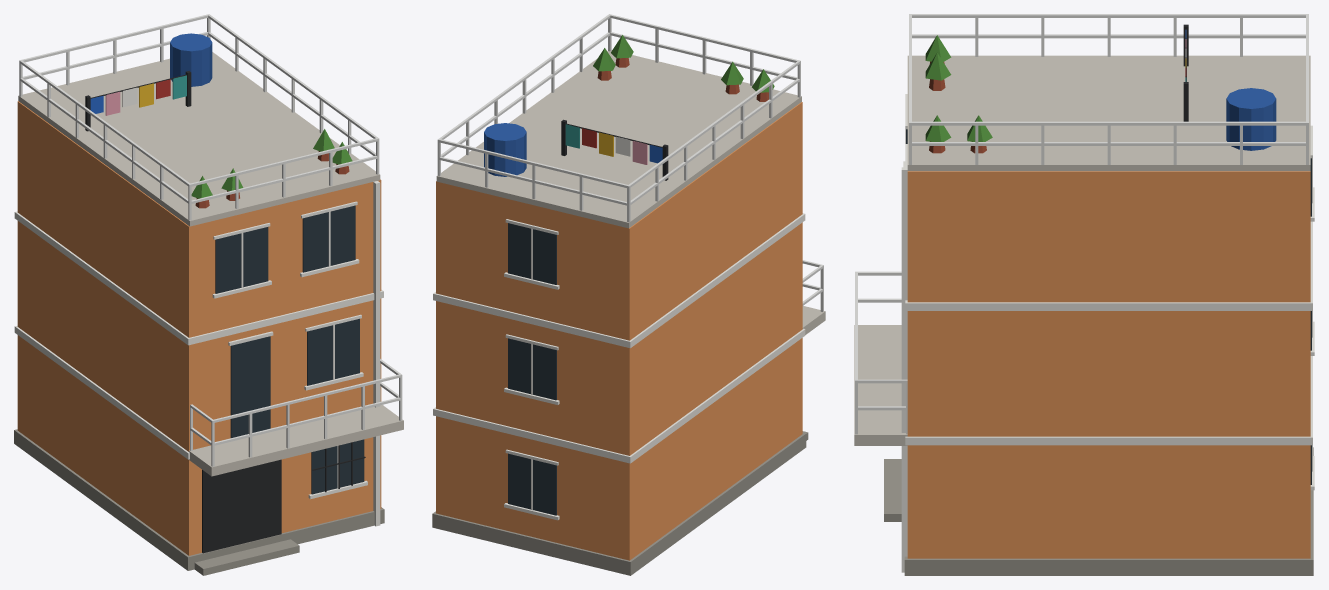
File: BAY_F_ThreeStorey_T.glb
3 views of the same model, side by side, from view 1: azimuth 30°, elevation 25°; view 2: azimuth 150°, elevation 25°; view 3: azimuth 270°, elevation 25° (orthographic). The views are drawn at different scales.
Visible parts, largest first — view 1: BAY_F_ThreeStorey_T; view 2: BAY_F_ThreeStorey_T; view 3: BAY_F_ThreeStorey_T.
Part boxes in pixels (<box>): BAY_F_ThreeStorey_T: <box>14,14,403,575</box>; BAY_F_ThreeStorey_T: <box>432,14,825,575</box>; BAY_F_ThreeStorey_T: <box>854,14,1314,575</box>.
Bounding box in the file's own units: 4.5 × 8.4 × 7.77.
Materials: 1 (1 with a texture image).
